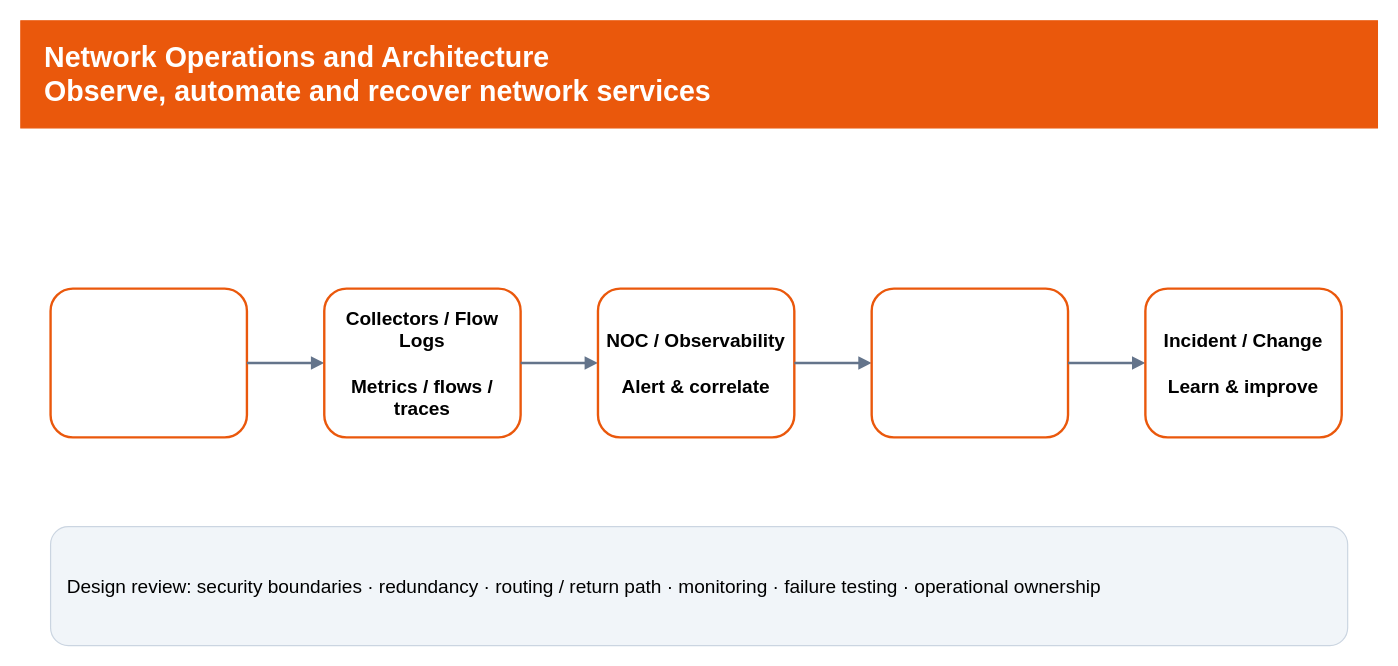
Image size: 1398x666. Some labels were removed from this diagram. Here are the shapes that lost their labels. From the top down, the centre of each, then its label:
At (x=148, y=362): "Telemetry Sources SNMP / Syslog / PCAP".
At (x=969, y=362): "Automation / IaC Validate / remediate".
